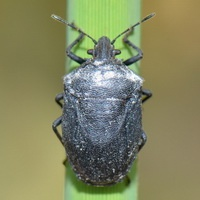insect: (51, 14, 154, 185)
